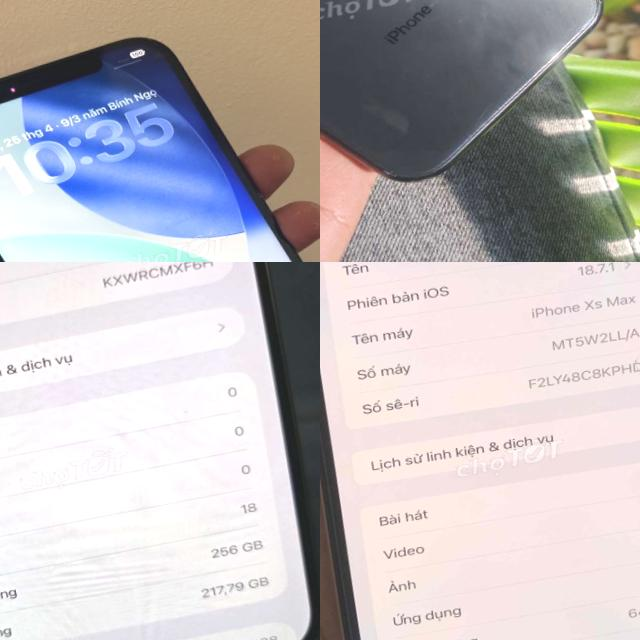gen_12_13: (0, 37, 300, 262)
gen_16: (0, 262, 312, 640)
gen_x_xs: (320, 262, 640, 640), (320, 0, 600, 179)
